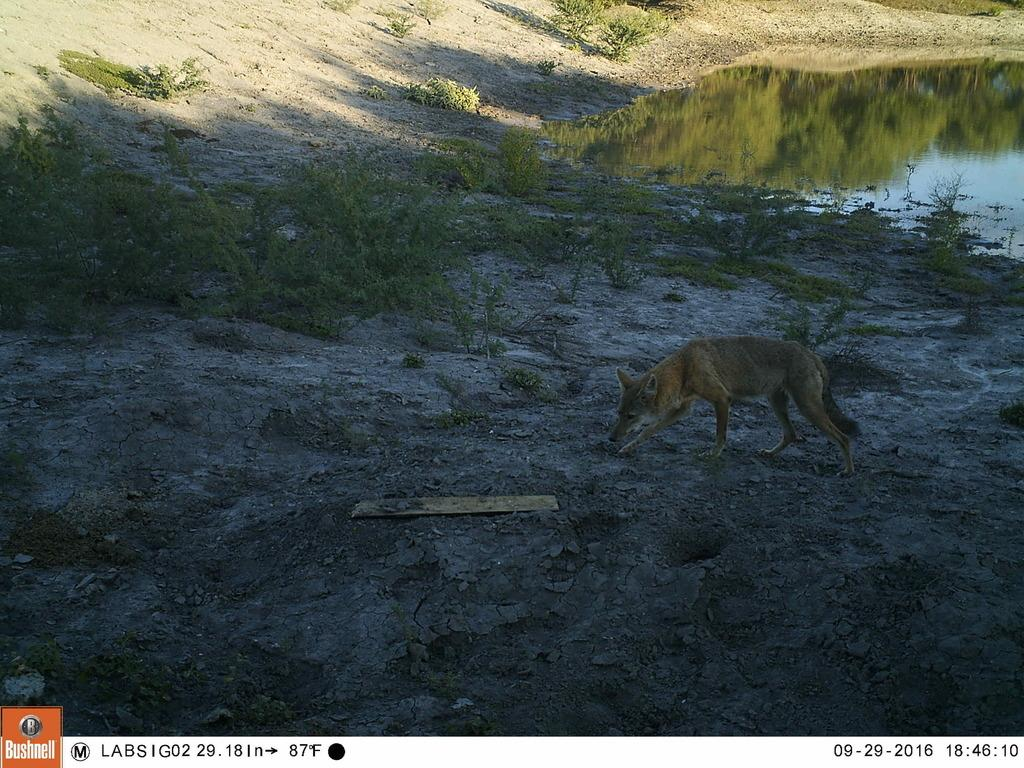Coyote: (602, 332, 872, 476)
